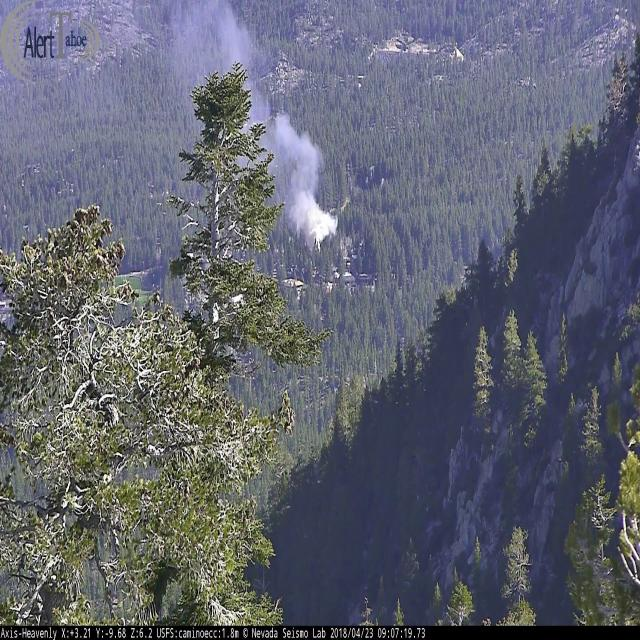smoke: (154, 0, 349, 248)
